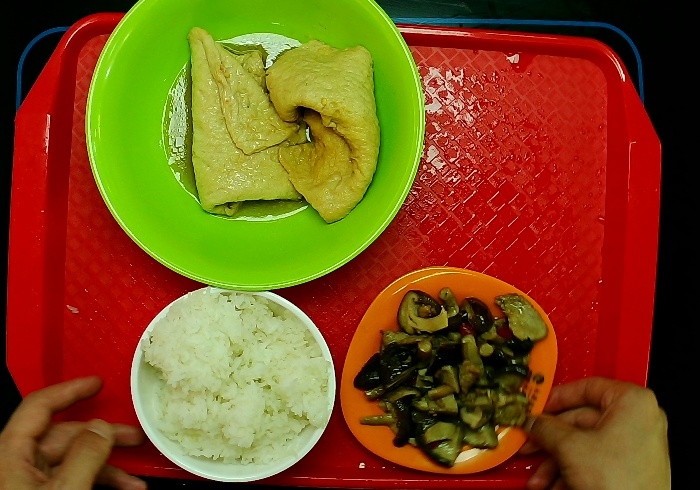YKMZ-Fan_Wan: (119, 282, 341, 485)
YKMZ-Ju_Se_Fang_Die: (335, 263, 561, 479)
YKMZ-Lv_Se_Tang_Wan: (80, 1, 428, 297)
